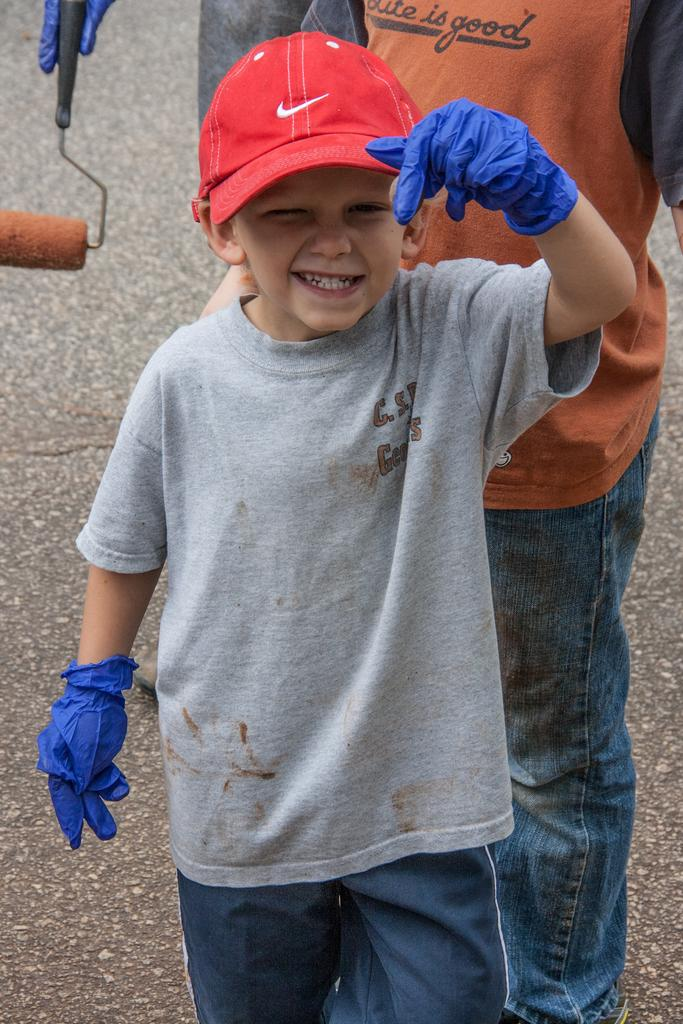Hat: (190, 28, 425, 226)
